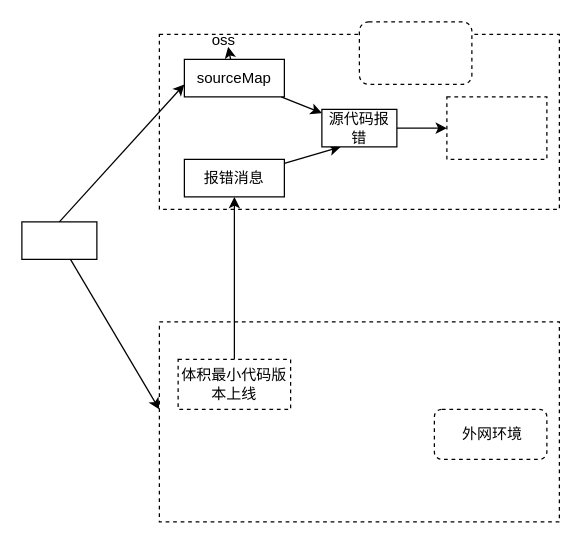
Some shapes in this 581 by 544 pixel diagram are drawn without their labels. Here are the shapes that lost their labels. From the top down, the box of each, then its label:
(358, 21, 472, 84): 内网环境
(446, 96, 547, 159): 错误信息展示
(21, 221, 97, 259): 代码
